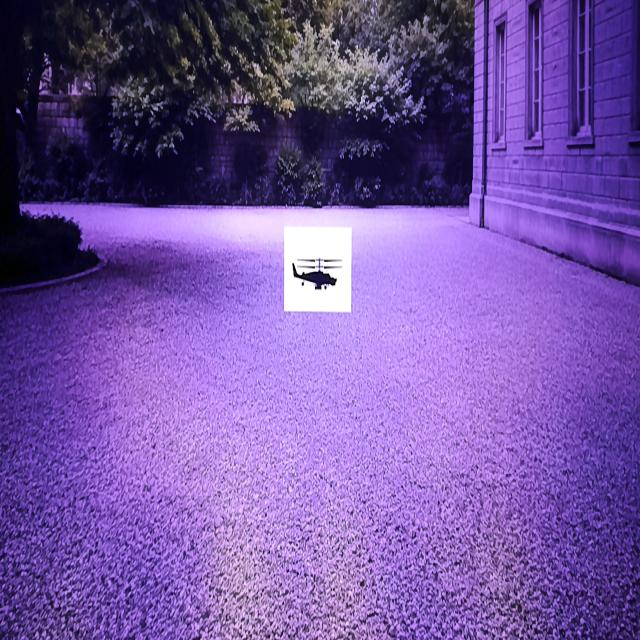Ka-52 Enemy: (293, 259, 341, 289)
